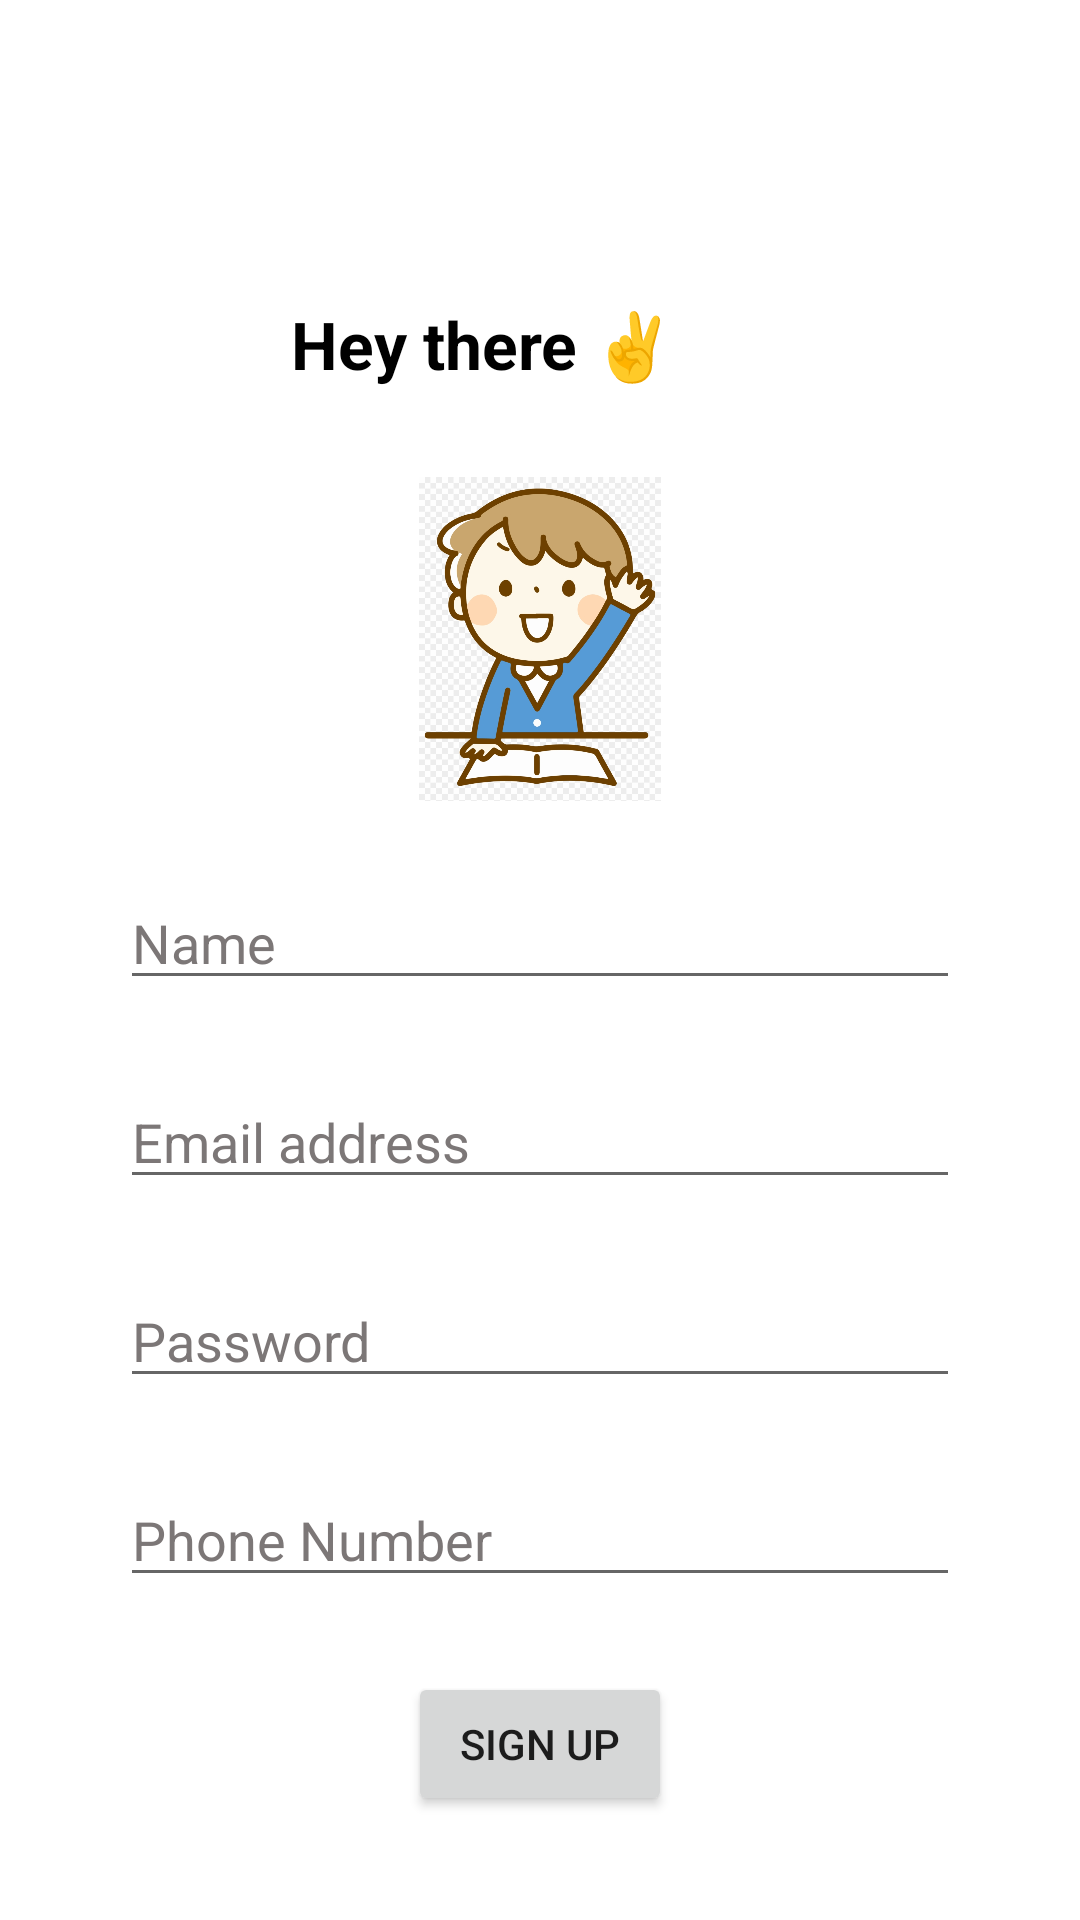

Where to tap for icons on this 1080px×1920px app screen, as [x,y]:
student: [540,639]
